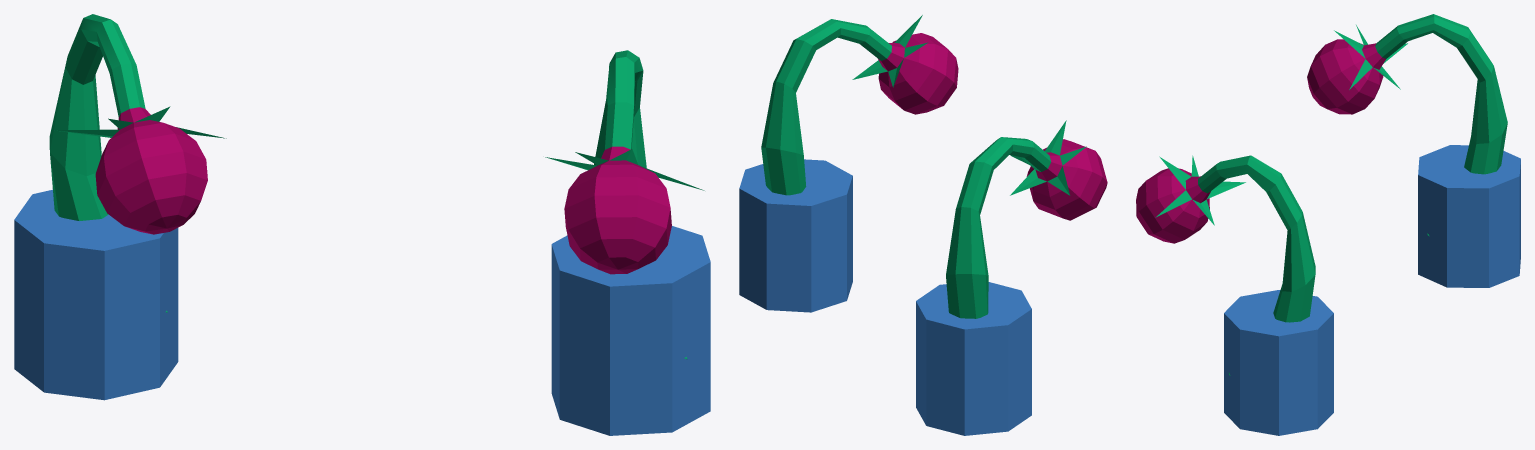
Rendered from flowers.fbx.
3 views of the same model, side by side, from view 1: azimuth 30°, elevation 25°; view 2: azimuth 150°, elevation 25°; view 3: azimuth 270°, elevation 25° (orthographic). The views are drawn at different scales.
Parts seen in each view (by area): view 1: pCylinder14 (×2), pSphere5 (×2); view 2: pCylinder14 (×2), pSphere5 (×2); view 3: pCylinder14 (×2), pSphere5 (×2).
Boxes of the visible parts, bbox=[...] form: pCylinder14 (×2): bbox=[14, 189, 710, 435]; pSphere5 (×2): bbox=[49, 14, 704, 359]; pCylinder14 (×2): bbox=[739, 159, 1031, 435]; pSphere5 (×2): bbox=[761, 15, 1107, 318]; pCylinder14 (×2): bbox=[1224, 145, 1520, 435]; pSphere5 (×2): bbox=[1136, 14, 1507, 375].
Bounding box in the file's own units: 7.75 × 5.31 × 7.
